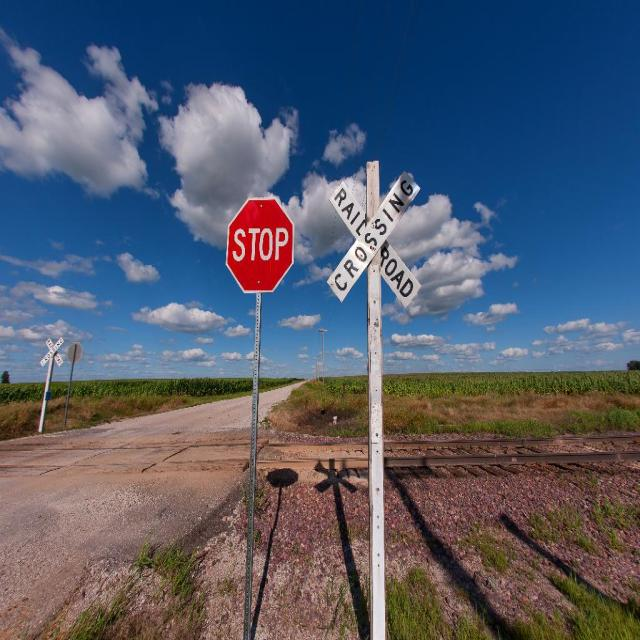Stop-sign: (225, 196, 294, 295)
